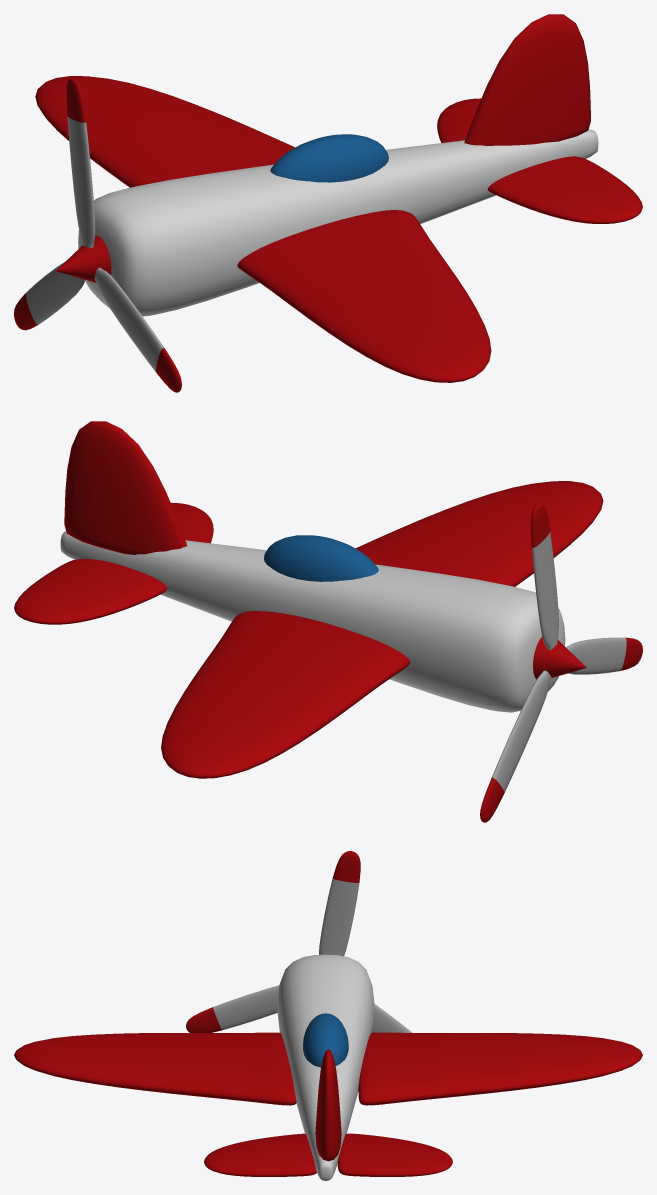
The model's file is planeUV_centered.obj.
3 views of the same model, one above another, from view 1: azimuth 30°, elevation 25°; view 2: azimuth 150°, elevation 25°; view 3: azimuth 270°, elevation 25° (orthographic). The views are drawn at different scales.
Visible parts, largest first — view 1: Cube.004_Cube.005, plane_Cube.004, Cube.006_Cube.007, Cube.005_Cube.006, Sphere, Cube.002_Cube.003, Cube.001_Cube.002, Cube_Cube.001, Cone; view 2: Cube.004_Cube.005, plane_Cube.004, Cube.006_Cube.007, Cube.005_Cube.006, Sphere, Cube_Cube.001, Cube.002_Cube.003, Cube.001_Cube.002, Cone; view 3: Cube.004_Cube.005, plane_Cube.004, Cube.005_Cube.006, Cube.002_Cube.003, Cube.001_Cube.002, Cube.006_Cube.007, Sphere, Cube_Cube.001.
Boxes of the visible parts, x1,y1,x2,y2 form: Cube.004_Cube.005: [35, 76, 491, 382]; plane_Cube.004: [78, 129, 598, 316]; Cube.006_Cube.007: [464, 14, 590, 145]; Cube.005_Cube.006: [437, 98, 642, 223]; Sphere: [270, 134, 388, 182]; Cube.002_Cube.003: [66, 77, 95, 248]; Cube.001_Cube.002: [94, 268, 181, 392]; Cube_Cube.001: [14, 261, 85, 330]; Cone: [56, 235, 111, 282]; Cube.004_Cube.005: [161, 481, 603, 778]; plane_Cube.004: [60, 531, 565, 712]; Cube.006_Cube.007: [64, 421, 186, 554]; Cube.005_Cube.006: [14, 502, 213, 624]; Sphere: [264, 535, 378, 581]; Cube_Cube.001: [480, 670, 551, 822]; Cube.002_Cube.003: [531, 503, 558, 650]; Cube.001_Cube.002: [566, 637, 642, 674]; Cone: [533, 636, 586, 679]; Cube.004_Cube.005: [14, 1032, 642, 1105]; plane_Cube.004: [277, 954, 374, 1180]; Cube.005_Cube.006: [204, 1133, 452, 1176]; Cube.002_Cube.003: [319, 851, 360, 956]; Cube.001_Cube.002: [186, 985, 279, 1032]; Cube.006_Cube.007: [315, 1049, 341, 1161]; Sphere: [303, 1013, 348, 1067]; Cube_Cube.001: [372, 1004, 412, 1032].
Bounding box in the file's own units: 5.52 × 2.82 × 7.25.
